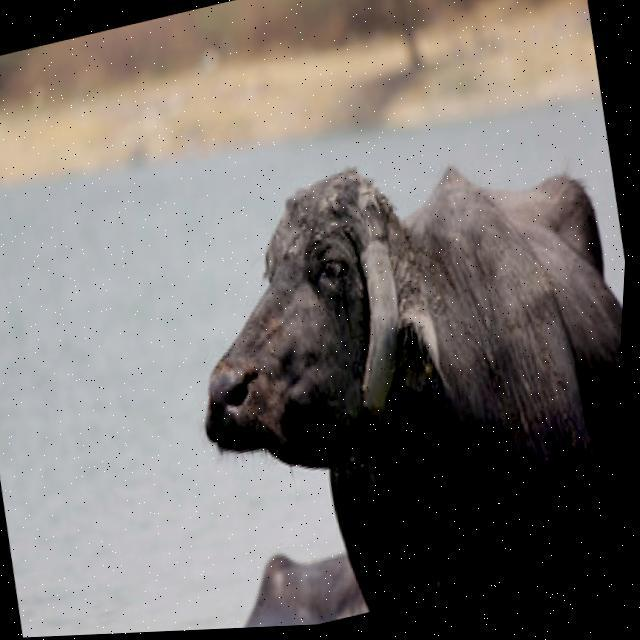Buffalo: (146, 101, 633, 632)
